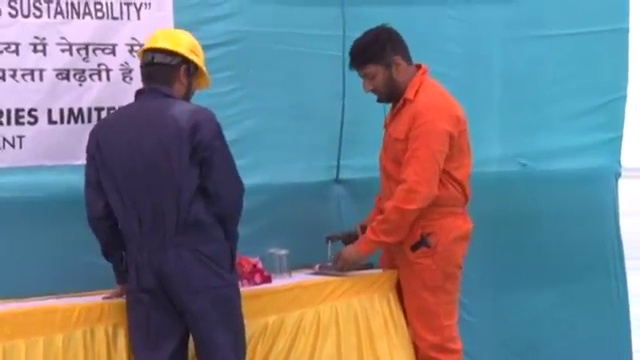helmet: (139, 28, 213, 90)
helmet_off: (349, 23, 423, 106)
helmet_on: (137, 28, 209, 105)
person: (83, 28, 248, 360), (334, 22, 474, 360)
